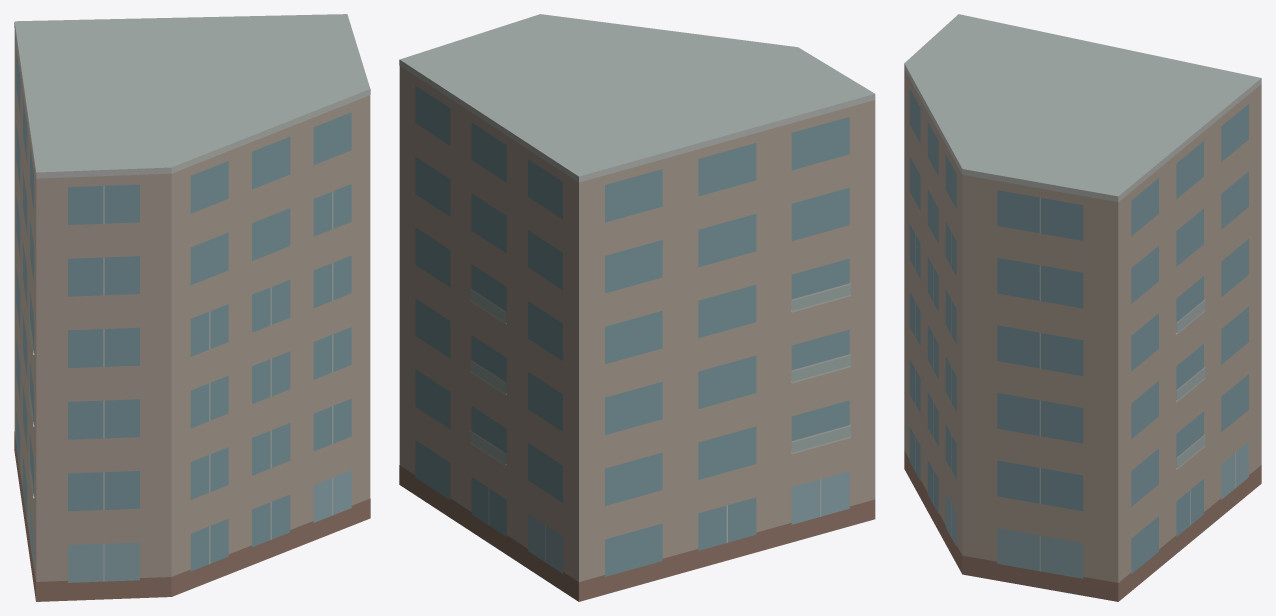
Rendered from survey-upis-32886041.glb.
3 views of the same model, side by side, from view 1: azimuth 30°, elevation 25°; view 2: azimuth 150°, elevation 25°; view 3: azimuth 270°, elevation 25° (orthographic). The views are drawn at different scales.
Visible parts, largest first — view 1: survey-upis-32886041.tmp; view 2: survey-upis-32886041.tmp; view 3: survey-upis-32886041.tmp.
Part boxes in pixels (x1=…): survey-upis-32886041.tmp: x1=14, y1=14, x2=370, y2=601; survey-upis-32886041.tmp: x1=399, y1=14, x2=875, y2=601; survey-upis-32886041.tmp: x1=904, y1=14, x2=1261, y2=601.
Bounding box in the file's own units: 16.51 × 17.1 × 13.67.
